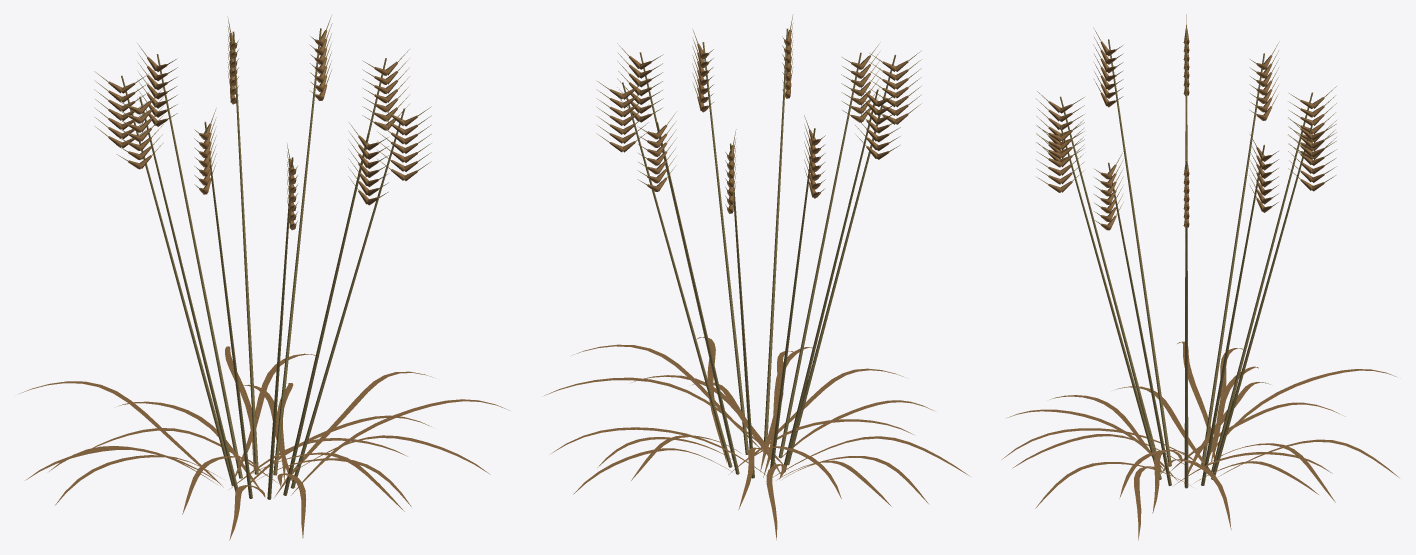
The model's file is PZ_Crop_Wheat_Dead.glb.
The picture shows the model from 3 angles, left to right: view 1: azimuth 30°, elevation 25°; view 2: azimuth 150°, elevation 25°; view 3: azimuth 270°, elevation 25°; orthographic projection. The views are drawn at different scales.
Visible parts, largest first — view 1: PZ_Crop_Wheat_Dead_01_Culms, PZ_Crop_Wheat_Dead_02_Slender_Grass_Blades, PZ_Crop_Wheat_Dead_03_Grain_Heads, PZ_Crop_Wheat_Dead_04_Awns; view 2: PZ_Crop_Wheat_Dead_01_Culms, PZ_Crop_Wheat_Dead_02_Slender_Grass_Blades, PZ_Crop_Wheat_Dead_03_Grain_Heads, PZ_Crop_Wheat_Dead_04_Awns; view 3: PZ_Crop_Wheat_Dead_01_Culms, PZ_Crop_Wheat_Dead_02_Slender_Grass_Blades, PZ_Crop_Wheat_Dead_03_Grain_Heads, PZ_Crop_Wheat_Dead_04_Awns.
Part boxes in pixels (bbox=[...]): PZ_Crop_Wheat_Dead_01_Culms: bbox=[121, 28, 404, 499]; PZ_Crop_Wheat_Dead_02_Slender_Grass_Blades: bbox=[19, 346, 509, 540]; PZ_Crop_Wheat_Dead_03_Grain_Heads: bbox=[108, 30, 417, 230]; PZ_Crop_Wheat_Dead_04_Awns: bbox=[94, 15, 431, 224]; PZ_Crop_Wheat_Dead_01_Culms: bbox=[622, 28, 895, 478]; PZ_Crop_Wheat_Dead_02_Slender_Grass_Blades: bbox=[544, 337, 970, 539]; PZ_Crop_Wheat_Dead_03_Grain_Heads: bbox=[609, 29, 908, 213]; PZ_Crop_Wheat_Dead_04_Awns: bbox=[596, 14, 921, 208]; PZ_Crop_Wheat_Dead_01_Culms: bbox=[1060, 28, 1312, 488]; PZ_Crop_Wheat_Dead_02_Slender_Grass_Blades: bbox=[1002, 341, 1399, 540]; PZ_Crop_Wheat_Dead_03_Grain_Heads: bbox=[1048, 30, 1324, 230]; PZ_Crop_Wheat_Dead_04_Awns: bbox=[1036, 14, 1336, 224].
Bounding box in the file's own units: 0.8552 × 0.791 × 0.7267.
2 materials, 2 textured.
